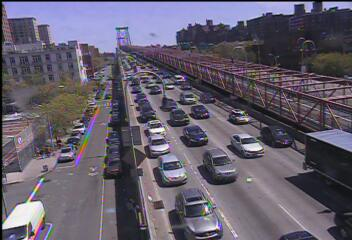neg: (257, 144, 290, 187), (171, 164, 198, 200), (131, 117, 156, 151), (88, 139, 113, 173), (235, 56, 260, 89), (112, 24, 136, 56), (162, 41, 185, 71), (47, 84, 69, 113), (177, 102, 198, 130)
